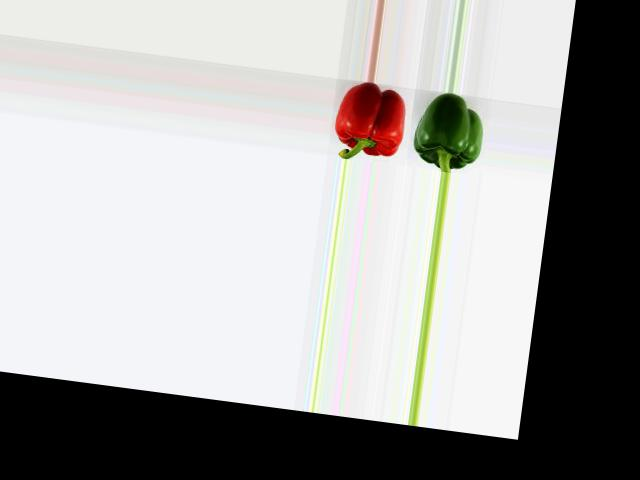bell_pepper: (407, 92, 489, 175)
